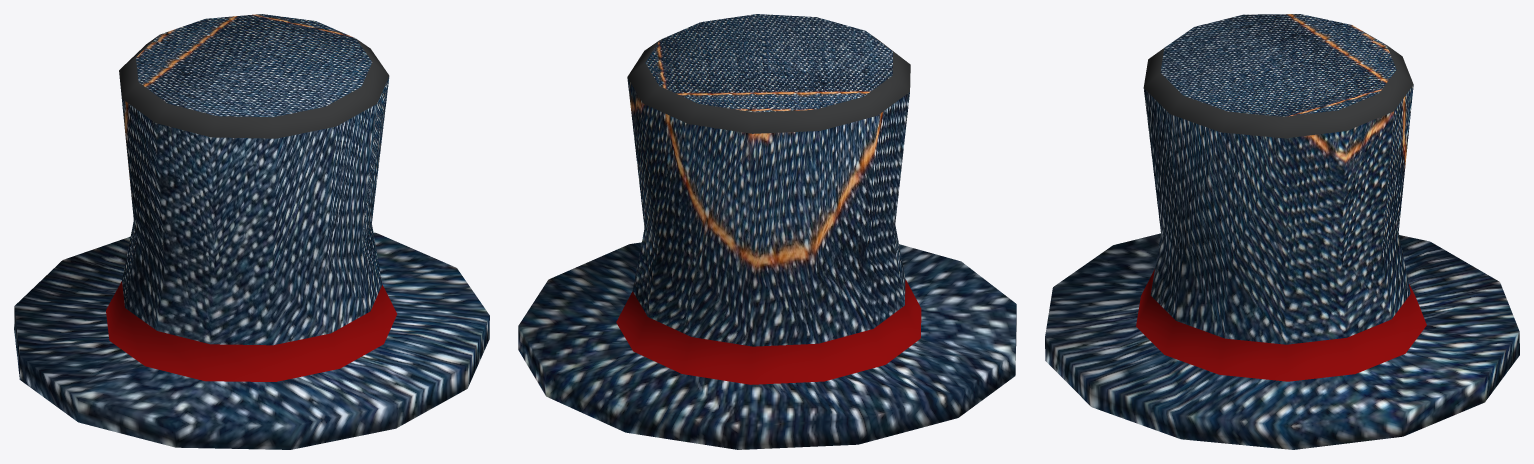
File: TOP HAT_03.FBX
3 views of the same model, side by side, from view 1: azimuth 30°, elevation 25°; view 2: azimuth 150°, elevation 25°; view 3: azimuth 270°, elevation 25° (orthographic).
Parts seen in each view (by area): view 1: Cylinder001; view 2: Cylinder001; view 3: Cylinder001.
Boxes of the visible parts, <box> form: Cylinder001: <box>14,14,489,449</box>; Cylinder001: <box>518,14,1016,449</box>; Cylinder001: <box>1045,14,1519,449</box>.
Size of the model in its own units: 210 by 136 by 206.
3 materials, 1 textured.
